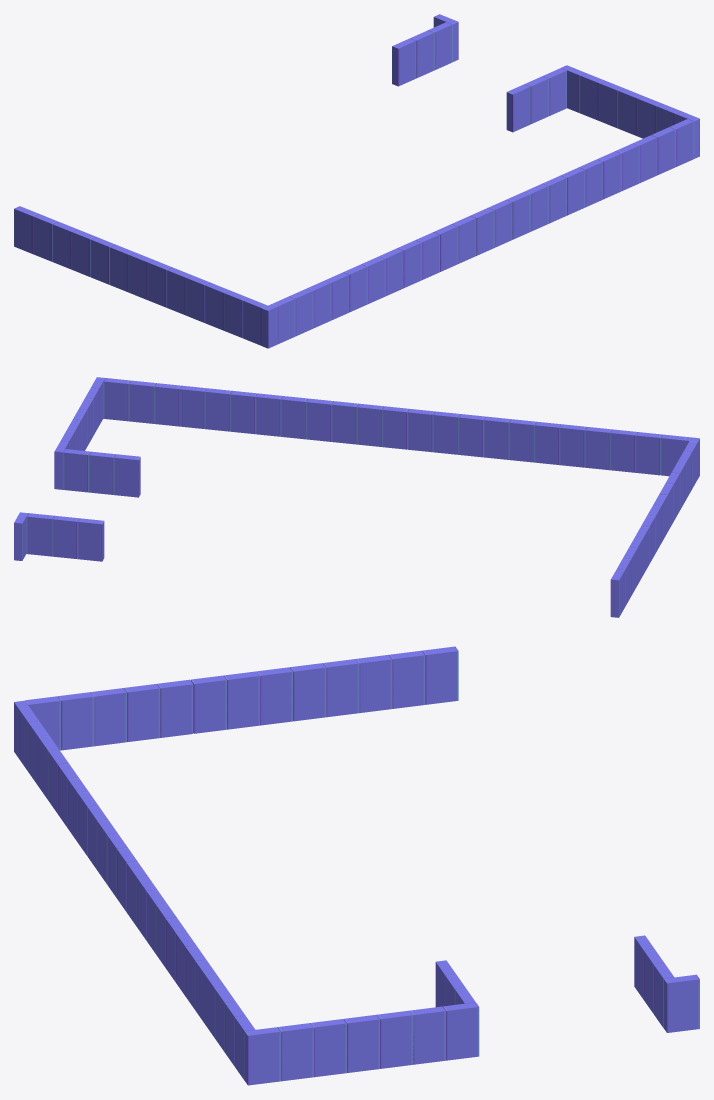
The model's file is qiangbian.fbx.
3 renders of one model, top to bottom at view 1: azimuth 30°, elevation 25°; view 2: azimuth 150°, elevation 25°; view 3: azimuth 270°, elevation 25°, orthographic. The views are drawn at different scales.
Visible parts, largest first — view 1: NvShen_dingbian_fbx__9_, NvShen_dingbian_fbx__12_, NvShen_dingbian_fbx__75_, NvShen_dingbian_fbx__85_, NvShen_dingbian_fbx__86_, NvShen_dingbian_fbx__79_, NvShen_dingbian_fbx__81_, NvShen_dingbian_fbx__76_, NvShen_dingbian_fbx__78_, NvShen_dingbian_fbx__77_, NvShen_dingbian_fbx__80_, NvShen_dingbian_fbx__8_ (+36 smaller); view 2: NvShen_dingbian_fbx__12_, NvShen_dingbian_fbx__9_, NvShen_dingbian_fbx__62_, NvShen_dingbian_fbx__55_, NvShen_dingbian_fbx__7_, NvShen_dingbian_fbx__57_, NvShen_dingbian_fbx__66_, NvShen_dingbian_fbx__11_, NvShen_dingbian_fbx__53_, NvShen_dingbian_fbx__58_, NvShen_dingbian_fbx__64_, NvShen_dingbian_fbx__67_ (+20 smaller); view 3: NvShen_dingbian_fbx__13_, NvShen_dingbian_fbx, NvShen_dingbian_fbx__44_, NvShen_dingbian_fbx__81_, NvShen_dingbian_fbx__80_, NvShen_dingbian_fbx__19_, NvShen_dingbian_fbx__75_, NvShen_dingbian_fbx__78_, NvShen_dingbian_fbx__79_, NvShen_dingbian_fbx__86_, NvShen_dingbian_fbx__83_, NvShen_dingbian_fbx__85_ (+35 smaller).
Part boxes in pixels (left/top/right/bottom): NvShen_dingbian_fbx__9_: left=392, top=38, right=416, bottom=86; NvShen_dingbian_fbx__12_: left=506, top=84, right=530, bottom=132; NvShen_dingbian_fbx__75_: left=147, top=259, right=171, bottom=307; NvShen_dingbian_fbx__85_: left=185, top=275, right=210, bottom=322; NvShen_dingbian_fbx__86_: left=166, top=267, right=190, bottom=315; NvShen_dingbian_fbx__79_: left=71, top=229, right=95, bottom=276; NvShen_dingbian_fbx__81_: left=33, top=214, right=57, bottom=261; NvShen_dingbian_fbx__76_: left=128, top=252, right=152, bottom=299; NvShen_dingbian_fbx__78_: left=90, top=236, right=114, bottom=284; NvShen_dingbian_fbx__77_: left=109, top=244, right=133, bottom=291; NvShen_dingbian_fbx__80_: left=52, top=221, right=76, bottom=269; NvShen_dingbian_fbx__8_: left=410, top=30, right=434, bottom=78; NvShen_dingbian_fbx__12_: left=113, top=454, right=140, bottom=497; NvShen_dingbian_fbx__9_: left=77, top=518, right=104, bottom=561; NvShen_dingbian_fbx__62_: left=381, top=406, right=408, bottom=449; NvShen_dingbian_fbx__55_: left=204, top=388, right=231, bottom=431; NvShen_dingbian_fbx__7_: left=26, top=513, right=53, bottom=556; NvShen_dingbian_fbx__57_: left=255, top=393, right=282, bottom=436; NvShen_dingbian_fbx__66_: left=483, top=416, right=510, bottom=459; NvShen_dingbian_fbx__11_: left=88, top=451, right=115, bottom=494; NvShen_dingbian_fbx__53_: left=154, top=383, right=180, bottom=426; NvShen_dingbian_fbx__58_: left=280, top=396, right=307, bottom=439; NvShen_dingbian_fbx__64_: left=432, top=411, right=459, bottom=454; NvShen_dingbian_fbx__67_: left=508, top=419, right=535, bottom=462; NvShen_dingbian_fbx__13_: left=244, top=1027, right=280, bottom=1085; NvShen_dingbian_fbx: left=664, top=974, right=699, bottom=1032; NvShen_dingbian_fbx__44_: left=422, top=646, right=458, bottom=704; NvShen_dingbian_fbx__81_: left=389, top=650, right=425, bottom=708; NvShen_dingbian_fbx__80_: left=356, top=654, right=392, bottom=712; NvShen_dingbian_fbx__19_: left=443, top=1002, right=479, bottom=1060; NvShen_dingbian_fbx__75_: left=191, top=675, right=226, bottom=733; NvShen_dingbian_fbx__78_: left=290, top=663, right=326, bottom=721; NvShen_dingbian_fbx__79_: left=323, top=659, right=359, bottom=717; NvShen_dingbian_fbx__86_: left=157, top=679, right=193, bottom=737; NvShen_dingbian_fbx__83_: left=58, top=692, right=94, bottom=750; NvShen_dingbian_fbx__85_: left=124, top=684, right=160, bottom=741.
Bounding box in the file's own units: 26.5 × 1.59 × 19.74.
